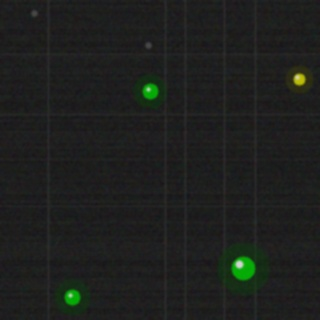green_normal: (229, 254, 257, 282), (62, 287, 82, 307), (140, 81, 160, 101)
yellow_warning: (291, 71, 307, 87)
